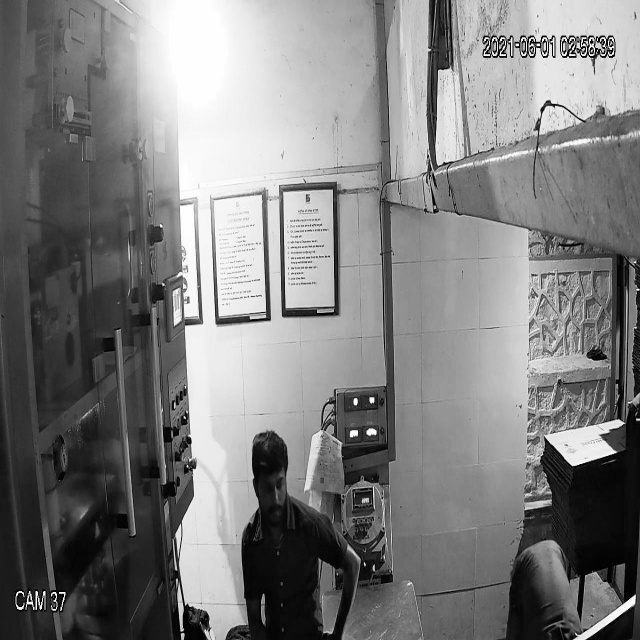Sin_gafas: (248, 473, 292, 503)
